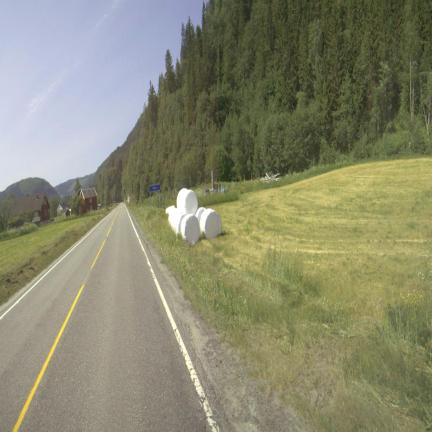Road: (0, 205, 216, 430)
